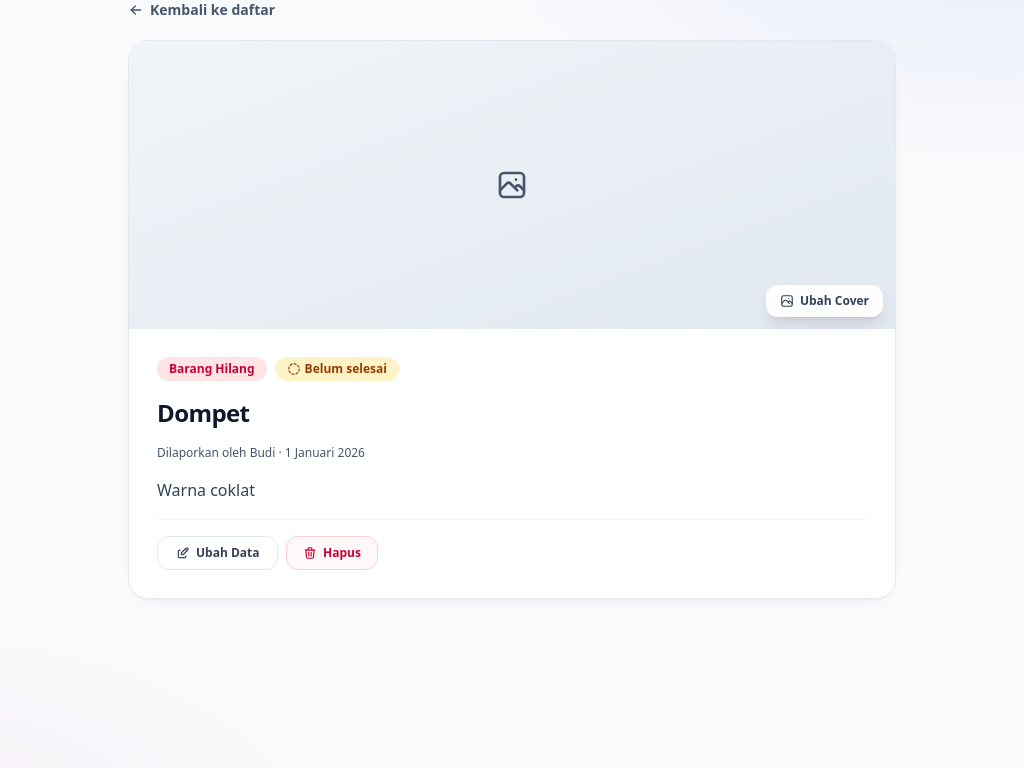
Test case: DetailPage › klik Ubah Data membuka dan menutup ChangeModal
The image size is (1024, 768).
What coordinates should you click on to do the following:
click the button "Ubah Data"
I would click on:
 (218, 553)
Its box is [157,536,278,570].
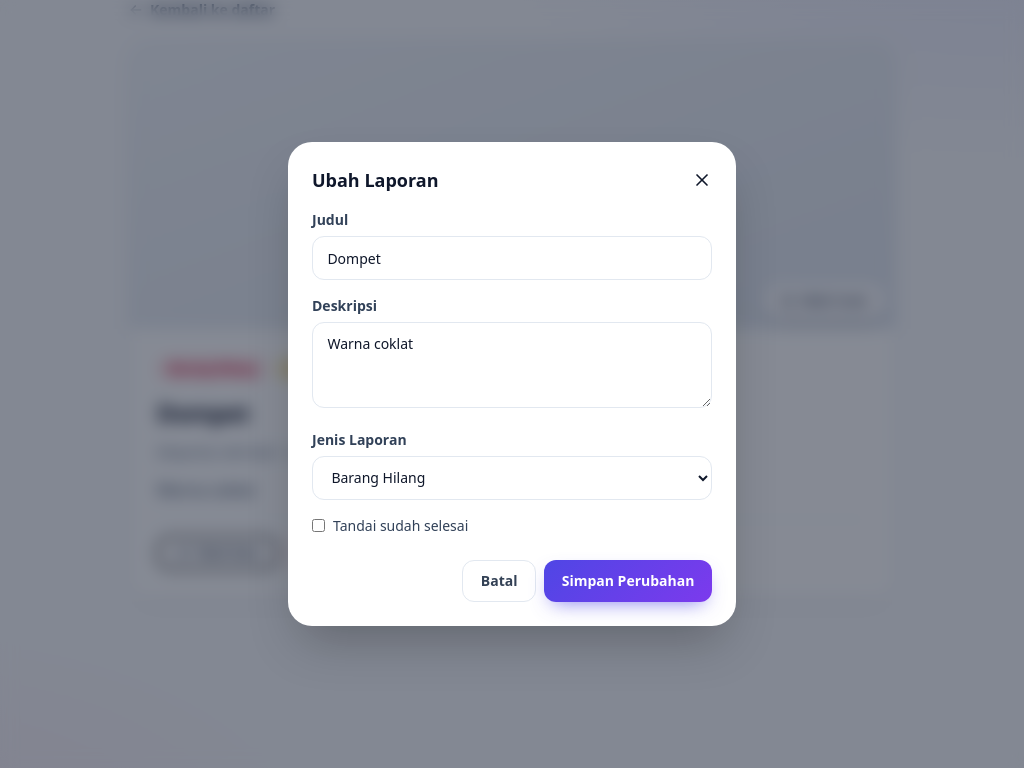
expect the form with test id "change-form" is shown: met, box [312,210,712,602]
What coordinates should you click on to do the following:
click the button "Batal"
I would click on:
 (499, 581)
Its box is [462,560,536,602].
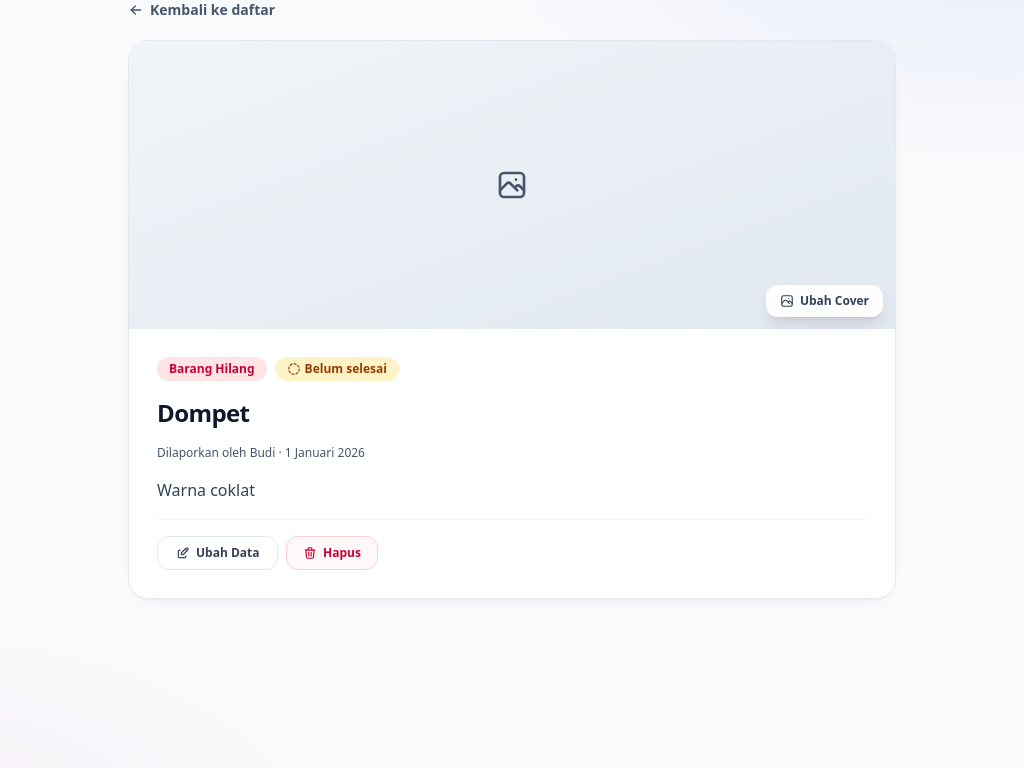
expect the form with test id "change-form" is gone: met
